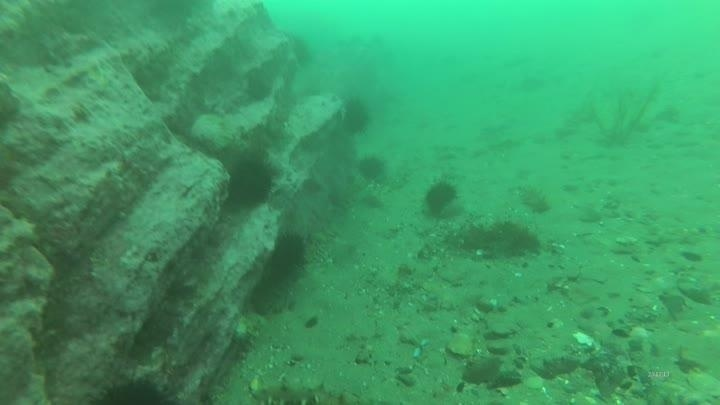echinus: (224, 155, 277, 211), (88, 372, 174, 405), (268, 230, 310, 279), (421, 177, 460, 218), (339, 96, 373, 137), (356, 153, 388, 183)
holothurian: (246, 373, 342, 405), (514, 182, 552, 215)
